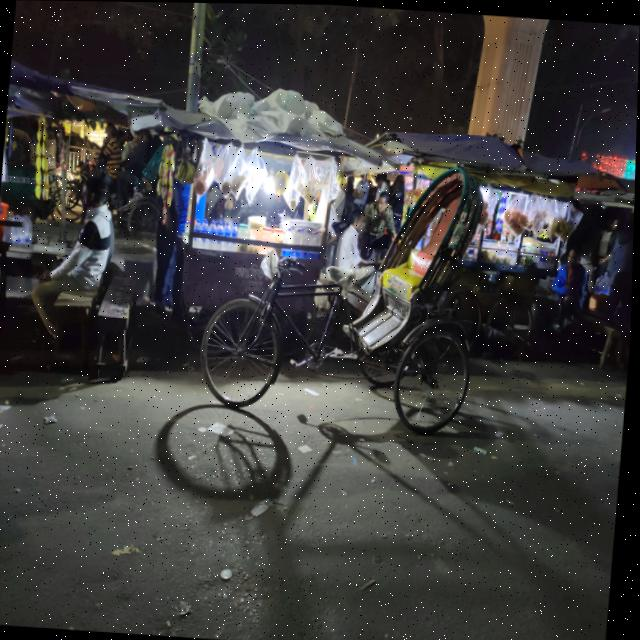rikshaw: (175, 113, 519, 520)
